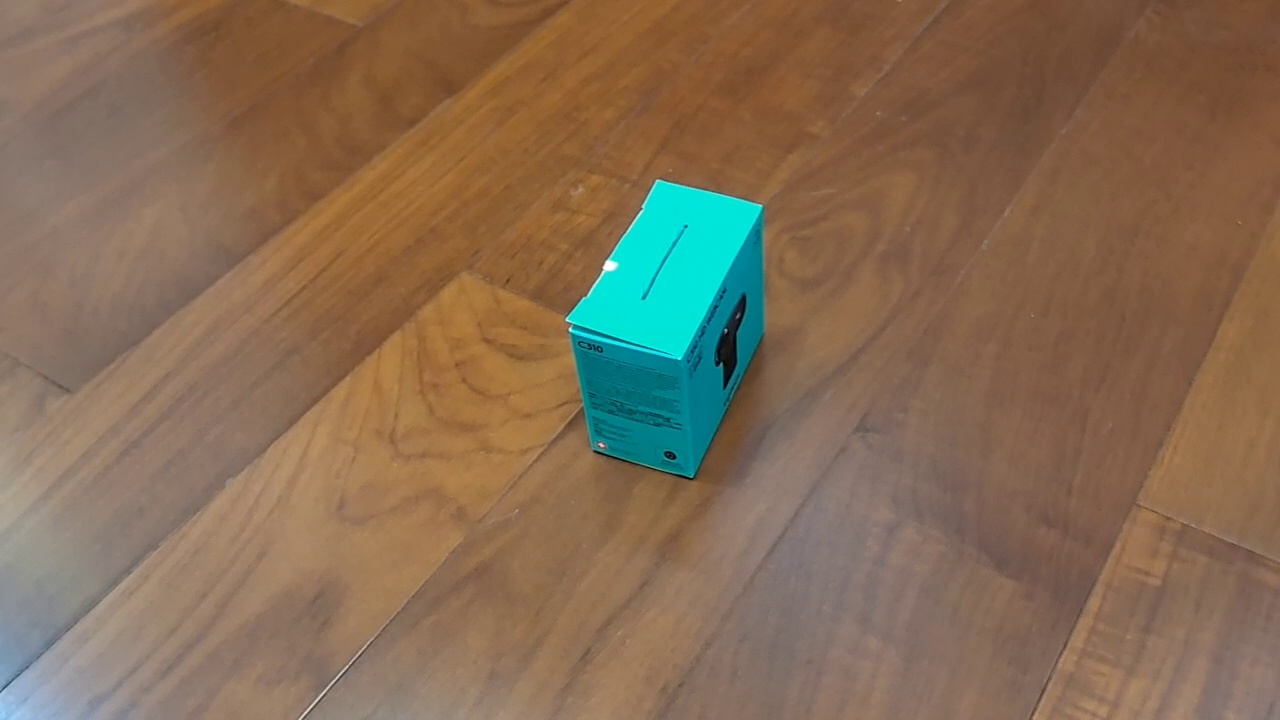webcam: (565, 178, 766, 480)
